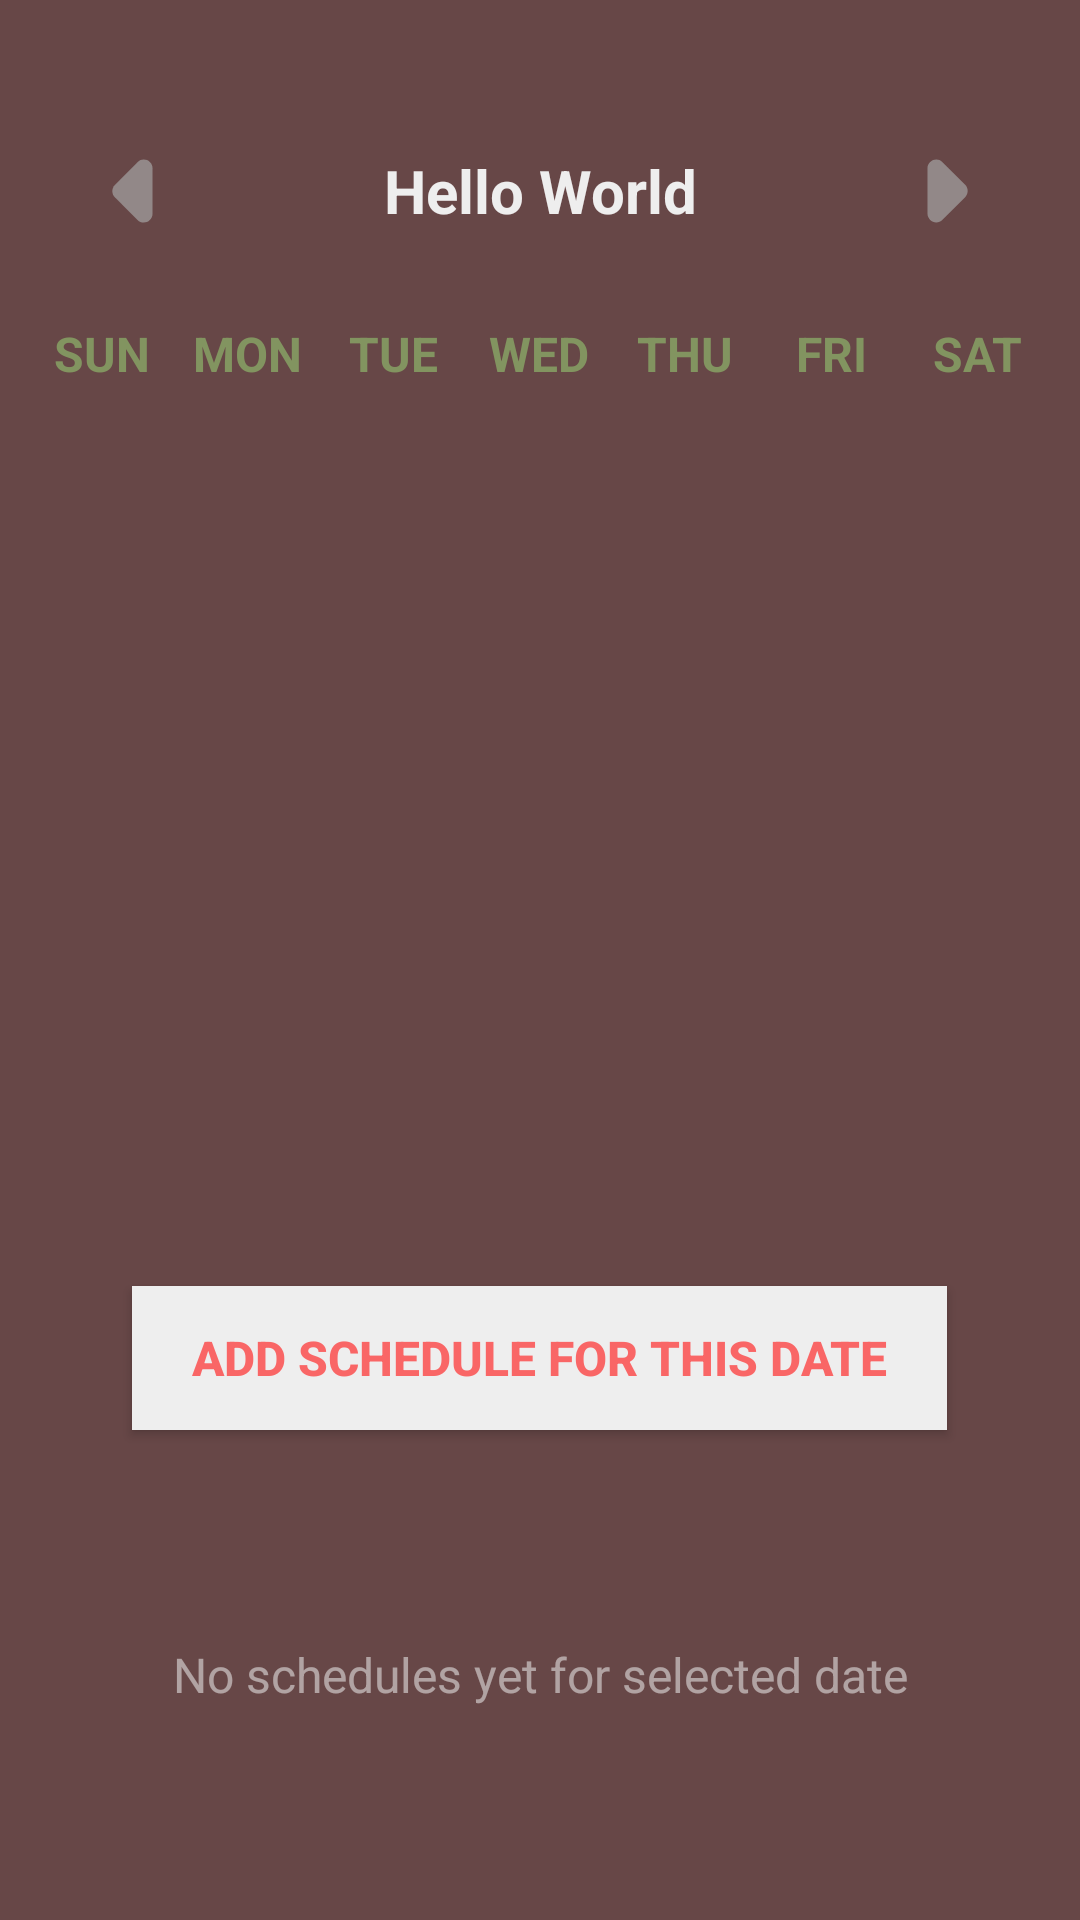

Where to tap for icons on this 1080*1920 app screen, as (x,y):
next month: (947,191)
previous month: (132,191)
